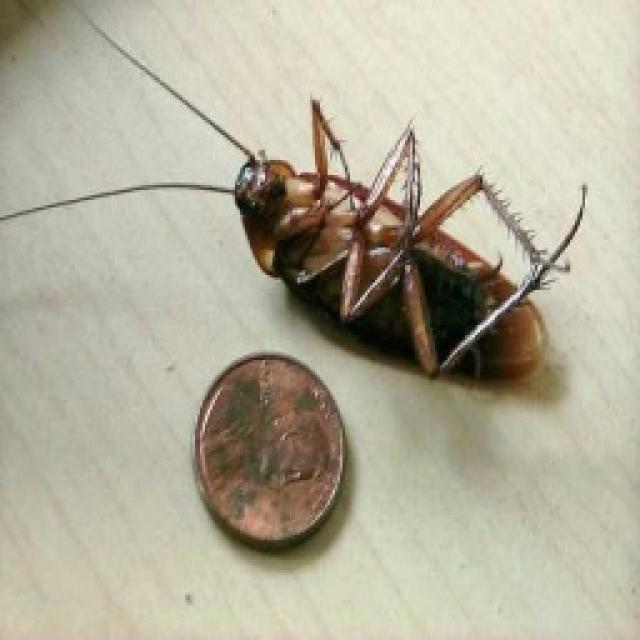cockroach: (186, 72, 582, 424)
